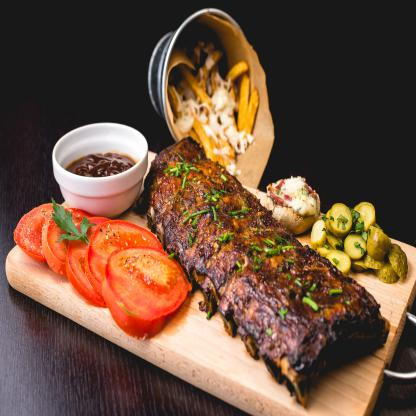Carne: (290, 265, 374, 386), (237, 242, 320, 327), (180, 172, 254, 256)
